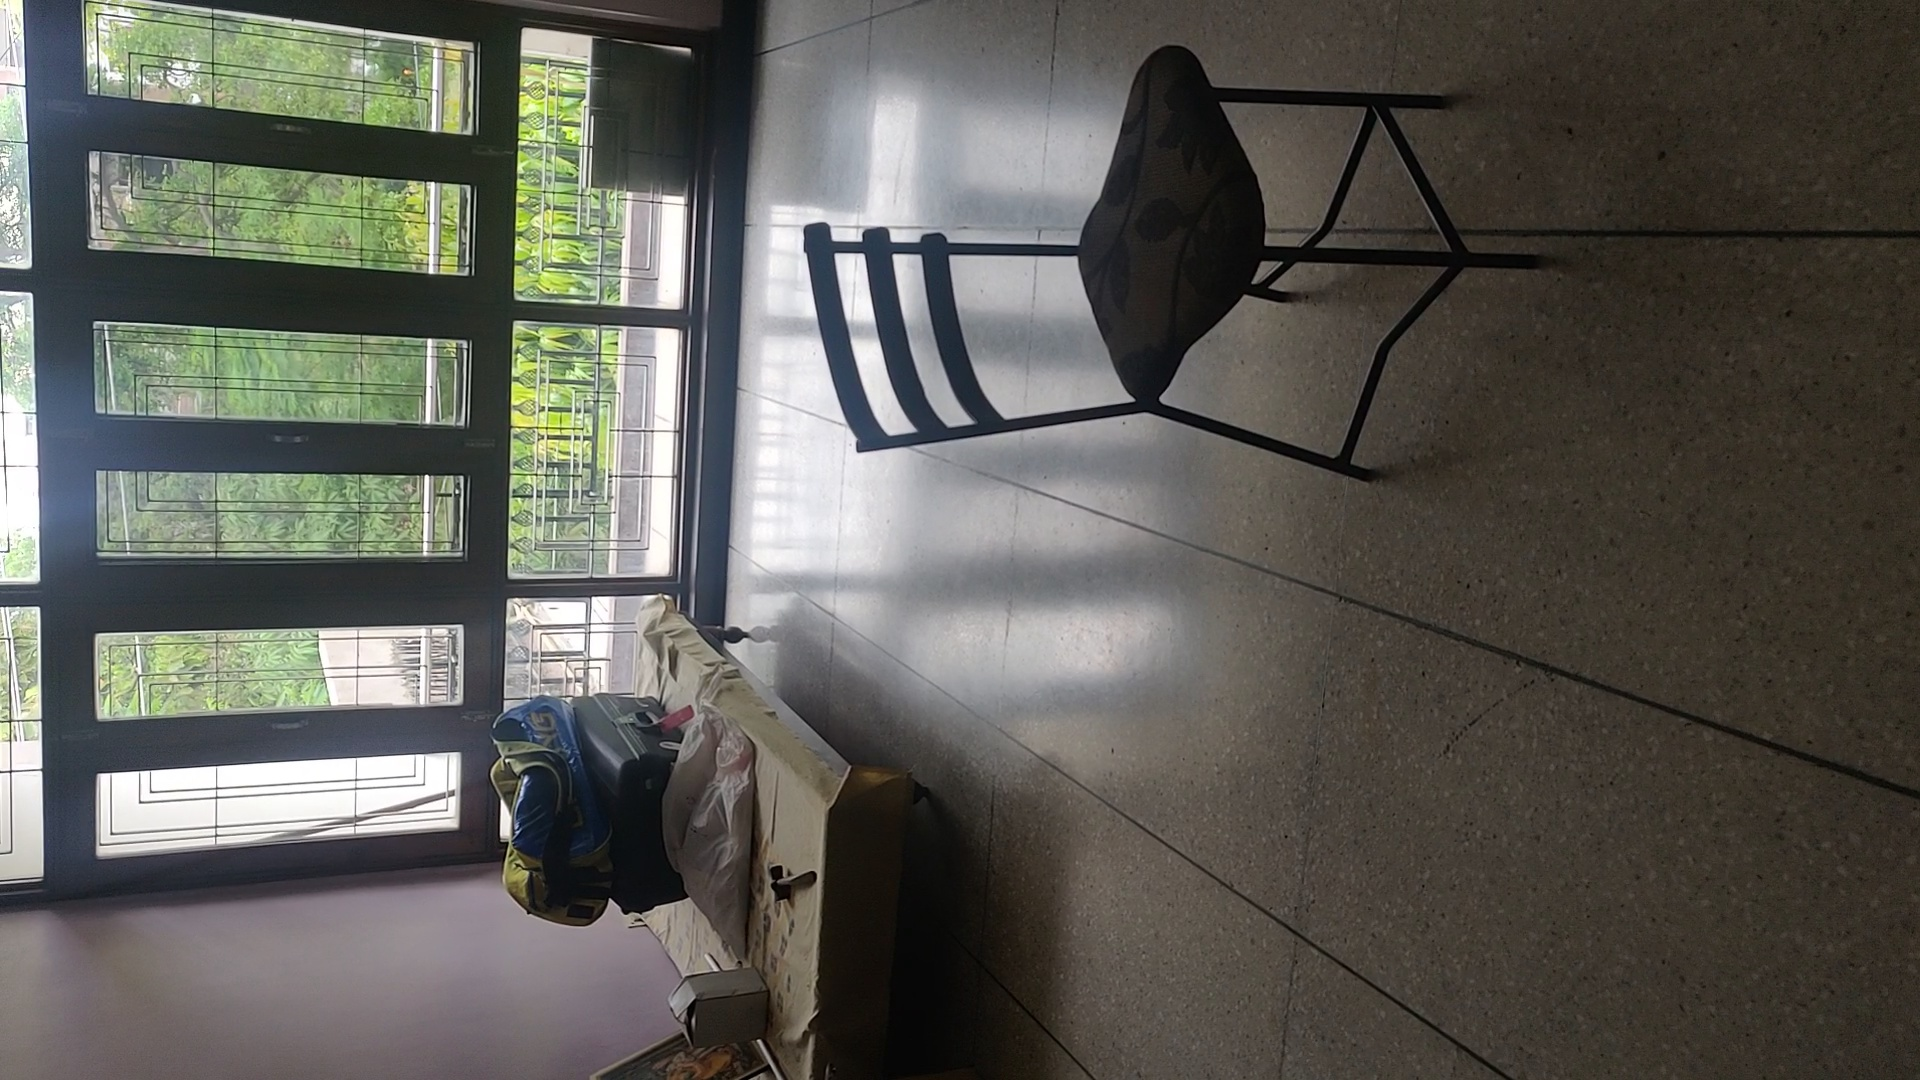hammer: (769, 862, 815, 902)
